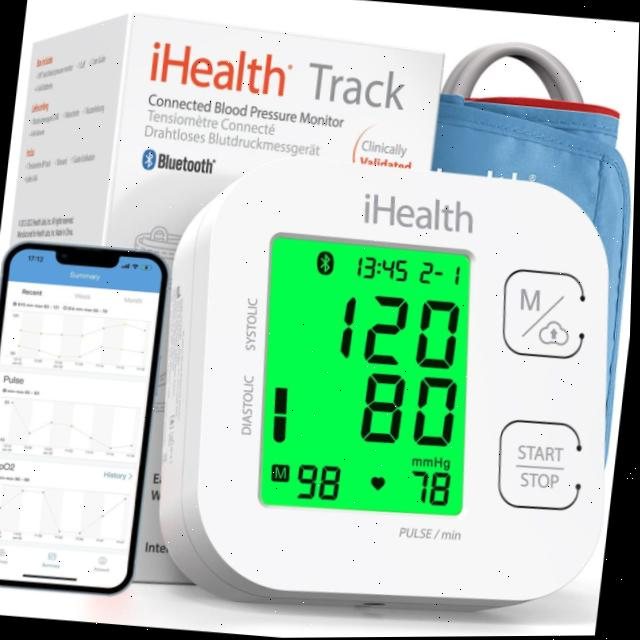dia: (348, 368, 468, 451)
pul: (403, 463, 461, 513)
ssd: (261, 233, 474, 517)
sys: (329, 284, 463, 375)
